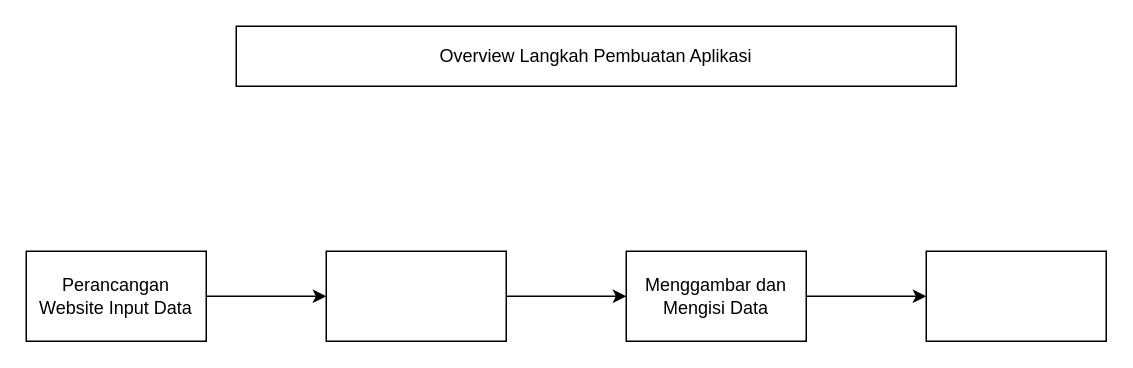
Image size: 1133x368. Some labels were removed from this diagram. Each missing label, with the centre of its shape:
"Buat Tampilan Hasil Akhir" belongs at (x=1015, y=295).
"Pembangunan Website Input Data" belongs at (x=415, y=295).
